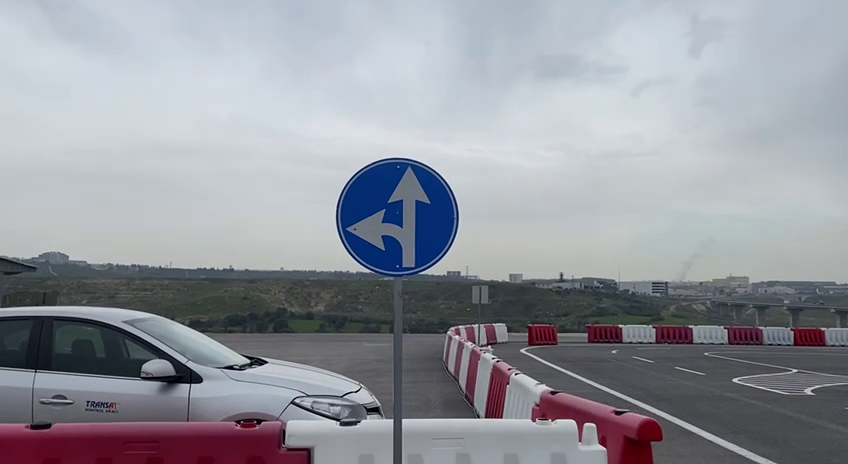forwardAndLeft: (332, 153, 461, 280)
